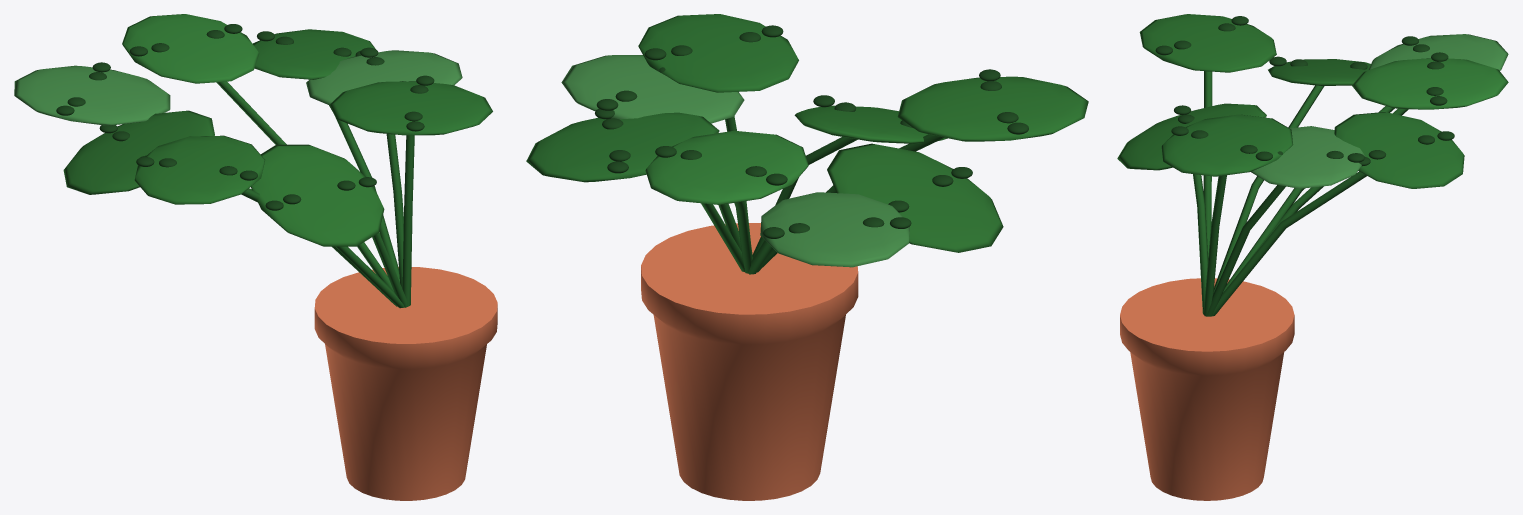
File: monstera.fbx
3 renders of one model, left to right at view 1: azimuth 30°, elevation 25°; view 2: azimuth 150°, elevation 25°; view 3: azimuth 270°, elevation 25°, orthographic. The views are drawn at different scales.
Parts seen in each view (by area): view 1: Monstera; view 2: Monstera; view 3: Monstera.
Part boxes in pixels (x1,y1,x2,y2): Monstera: (14,14,497,500); Monstera: (526,14,1088,500); Monstera: (1117,14,1508,500).
Size of the model in its own units: 1.88 by 1.8 by 1.79.
